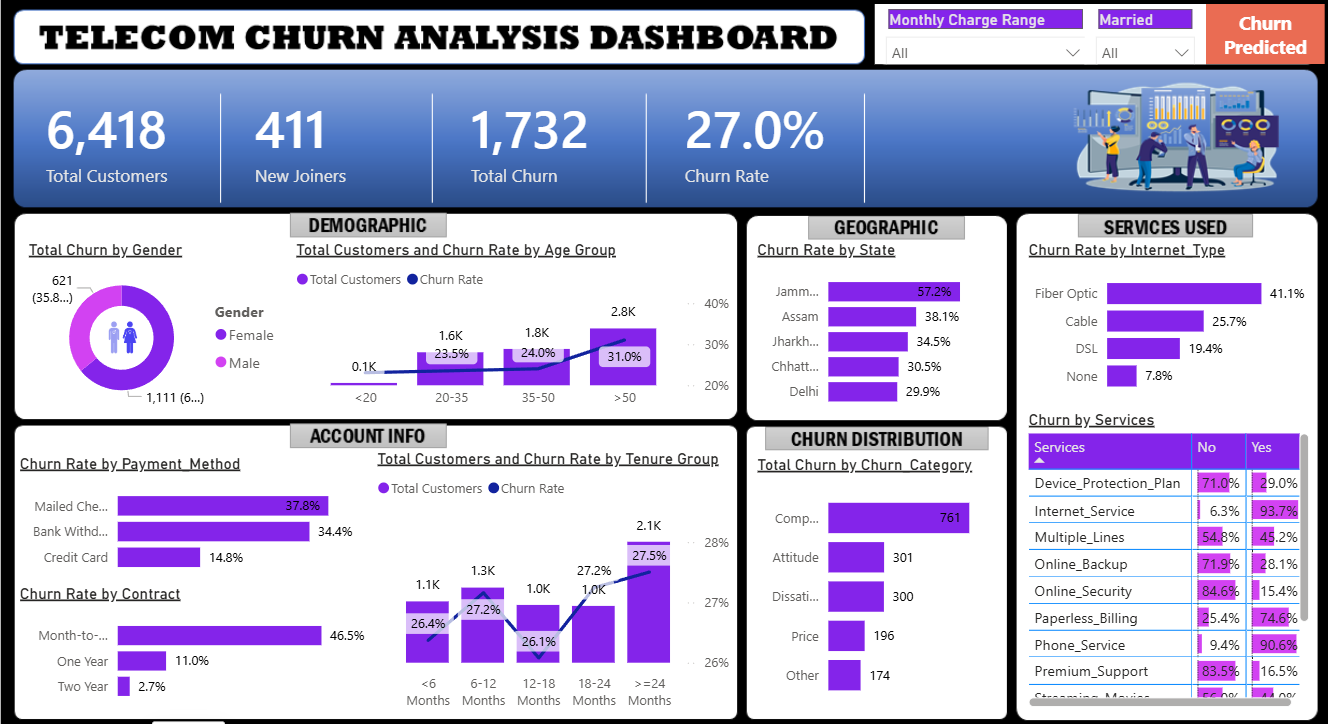

The dashboard page shown, as its layout file describes it:
{"tool":"powerbi","page":{"name":"Services","canvas":[1280,720],"ordinal":0},"visuals":[{"type":"image","box":[117.4,305.8,38.4,45.3],"z":0},{"type":"cardVisual","fields":{"Data":["tbl_Meaures.Total Customers"]},"box":[36,82.6,182.6,124.4],"z":1000},{"type":"cardVisual","fields":{"Data":["tbl_Meaures.New Joiners"]},"box":[230.2,82.6,181.4,124.4],"z":2000},{"type":"cardVisual","fields":{"Data":["tbl_Meaures.Total Churn"]},"box":[431.4,82.6,183.7,124.4],"z":3000},{"type":"cardVisual","fields":{"Data":["tbl_Meaures.Churn Rate"]},"box":[630.2,82.6,189.5,123.3],"z":4000},{"type":"lineStackedColumnComboChart","fields":{"Category":["Mapping_AgeGrp.Age Group"],"Y":["tbl_Meaures.Total Customers"],"Y2":["tbl_Meaures.Churn Rate"]},"box":[293,238.4,412.8,165.1],"z":5000},{"type":"clusteredBarChart","fields":{"Category":["prod_Churn.Payment_Method"],"Y":["tbl_Meaures.Churn Rate"]},"box":[36,437.2,332.6,120.9],"z":6000},{"type":"clusteredBarChart","fields":{"Category":["prod_Churn.Contract"],"Y":["tbl_Meaures.Churn Rate"]},"box":[36,558.1,332.6,119.8],"z":7000},{"type":"lineStackedColumnComboChart","fields":{"Category":["Mapping_TenureGrp.Tenure Group"],"Y":["tbl_Meaures.Total Customers"],"Y2":["tbl_Meaures.Churn Rate"]},"box":[368.6,432.6,337.2,250],"z":8000},{"type":"clusteredBarChart","fields":{"Category":["prod_Churn.State"],"Y":["tbl_Meaures.Churn Rate"]},"box":[722.1,238.4,231.4,165.1],"z":9000},{"type":"clusteredBarChart","fields":{"Y":["tbl_Meaures.Total Churn"],"Category":["prod_Churn.Churn_Category"]},"box":[722.1,438.4,231.4,239.5],"z":10000},{"type":"clusteredBarChart","fields":{"Category":["prod_Churn.Internet_Type"],"Y":["tbl_Meaures.Churn Rate"]},"box":[974.4,238.4,270.9,152.3],"z":11000},{"type":"pivotTable","title":"Churn by Services","fields":{"Rows":["Prod_Services.Services"],"Columns":["Prod_Services.Status"],"Values":["Sum(Prod_Services.Churn_Status)"]},"box":[974.4,396.5,270.9,281.4],"z":12000},{"type":"slicer","fields":{"Values":["prod_Churn.Monthly_Charge_Status"]},"box":[836,18.6,207,55.8],"z":13000},{"type":"slicer","fields":{"Values":["prod_Churn.Married"]},"box":[1031.4,18.6,112.8,55.8],"z":14000},{"type":"donutChart","fields":{"Category":["prod_Churn.Gender"],"Y":["tbl_Meaures.Total Churn"]},"box":[44.2,238.4,248.8,165.1],"z":15000},{"type":"shape","box":[1144.2,18.6,110.5,55.8],"z":16000}]}

Visuals, with their boxes on the page's 1280x720 design canvas (x1, y1, x2, y2). These are canvas units, not pixel positions in the 1328x724 screenshot, which may show the page scaled, cropped or inside an application window:
image: 117, 306, 156, 351
cardVisual - tbl_Meaures.Total Customers: 36, 83, 219, 207
cardVisual - tbl_Meaures.New Joiners: 230, 83, 412, 207
cardVisual - tbl_Meaures.Total Churn: 431, 83, 615, 207
cardVisual - tbl_Meaures.Churn Rate: 630, 83, 820, 206
lineStackedColumnComboChart - Mapping_AgeGrp.Age Group x tbl_Meaures.Total Customers: 293, 238, 706, 404
clusteredBarChart - prod_Churn.Payment_Method x tbl_Meaures.Churn Rate: 36, 437, 369, 558
clusteredBarChart - prod_Churn.Contract x tbl_Meaures.Churn Rate: 36, 558, 369, 678
lineStackedColumnComboChart - Mapping_TenureGrp.Tenure Group x tbl_Meaures.Total Customers: 369, 433, 706, 683
clusteredBarChart - prod_Churn.State x tbl_Meaures.Churn Rate: 722, 238, 954, 404
clusteredBarChart - tbl_Meaures.Total Churn x prod_Churn.Churn_Category: 722, 438, 954, 678
clusteredBarChart - prod_Churn.Internet_Type x tbl_Meaures.Churn Rate: 974, 238, 1245, 391
"Churn by Services" pivotTable: 974, 396, 1245, 678
slicer - prod_Churn.Monthly_Charge_Status: 836, 19, 1043, 74
slicer - prod_Churn.Married: 1031, 19, 1144, 74
donutChart - prod_Churn.Gender x tbl_Meaures.Total Churn: 44, 238, 293, 404
shape: 1144, 19, 1255, 74
